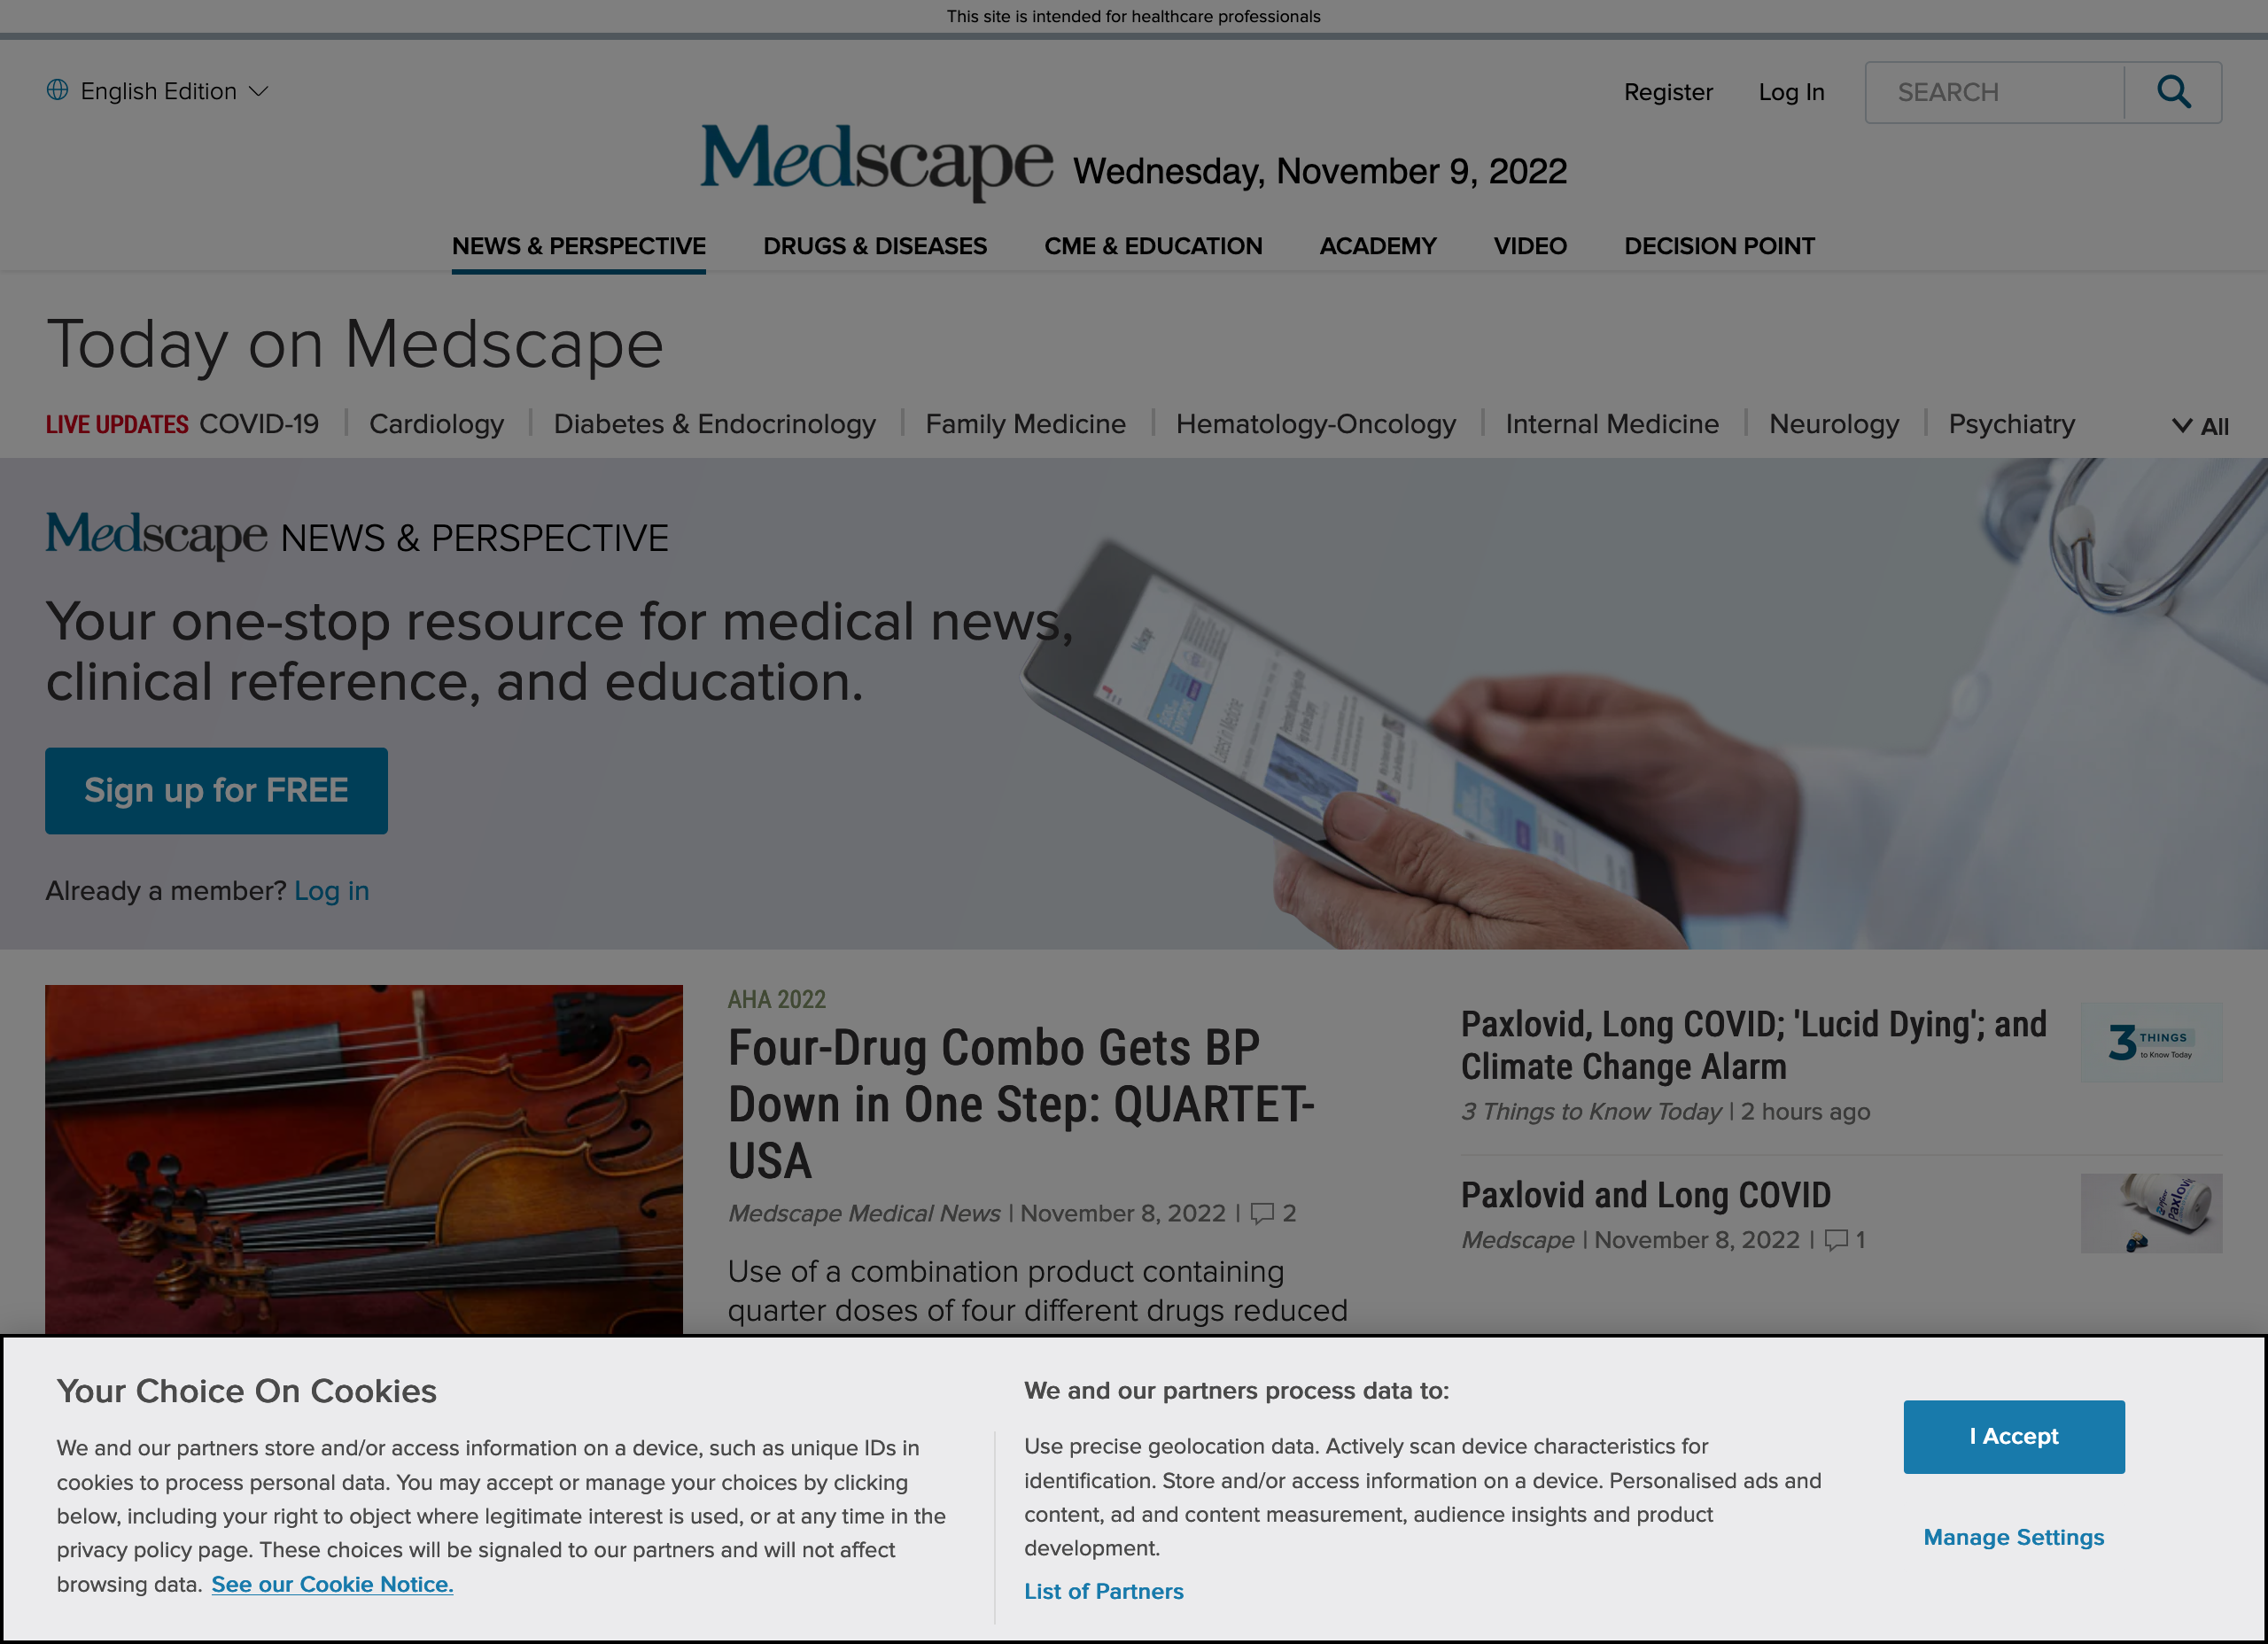Login: (1743, 65, 1849, 127)
